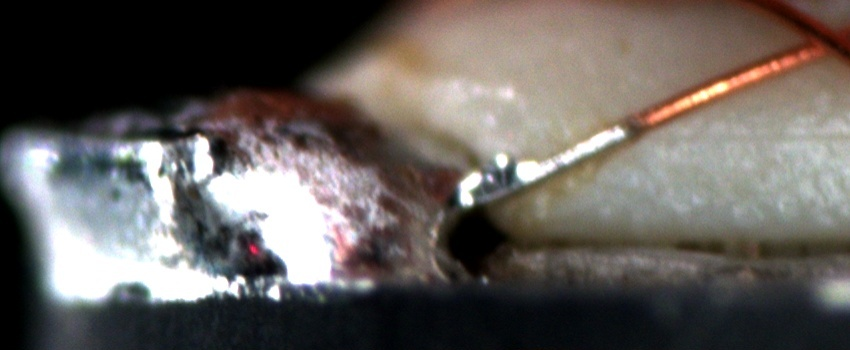CL: (775, 14, 847, 71)
DL: (639, 102, 850, 166)
TB: (459, 147, 548, 208)
TS: (454, 120, 631, 211)
TTCW: (449, 88, 692, 210)
